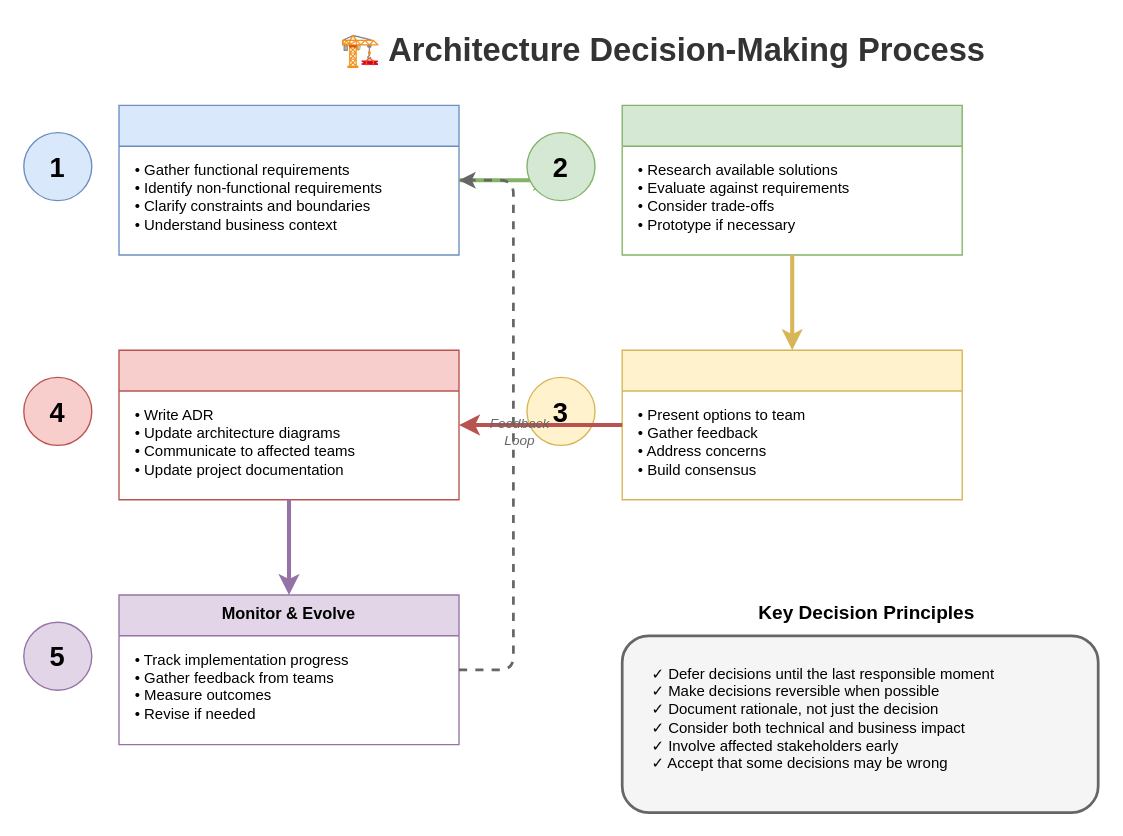
Image size: 1123x836. Some labels were removed from this diagram. Each missing label, with the box of its shape:
Analyze Options: (621, 104, 962, 255)
Document Decision: (118, 349, 459, 500)
Understand Requirements: (118, 104, 459, 255)
Validate with Stakeholders: (621, 349, 962, 500)
